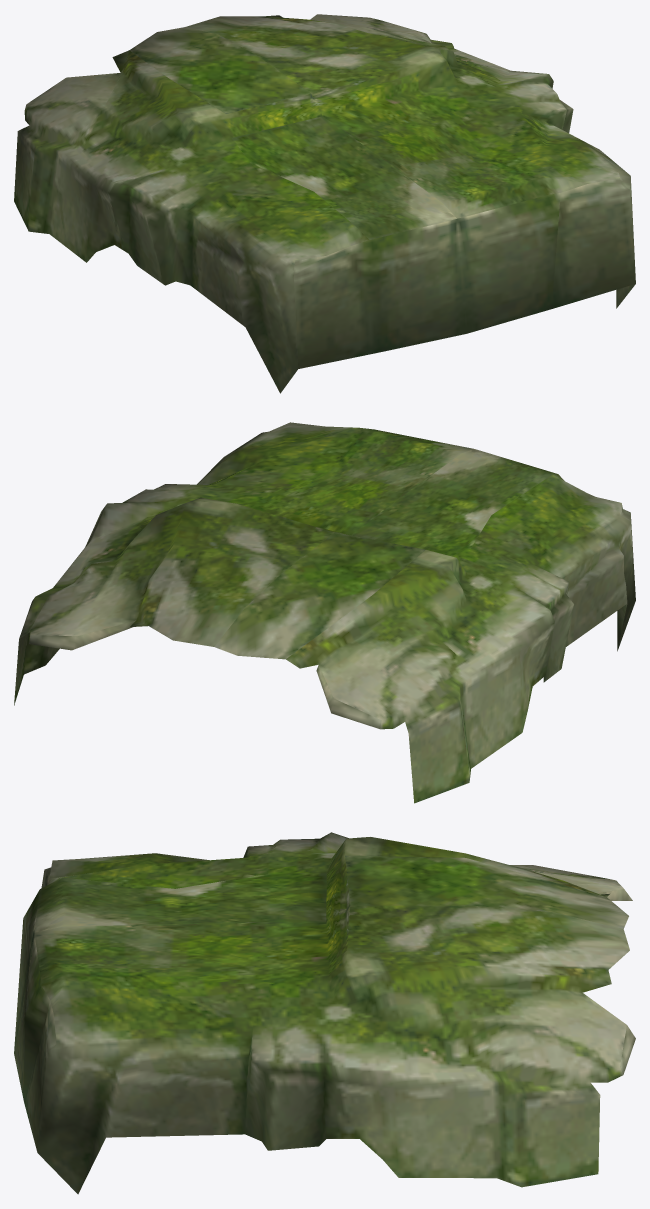
Rendered from S_Rock_Green056_1060_6.fbx.
3 renders of one model, top to bottom at view 1: azimuth 30°, elevation 25°; view 2: azimuth 150°, elevation 25°; view 3: azimuth 270°, elevation 25°, orthographic. The views are drawn at different scales.
Parts seen in each view (by area): view 1: S_Rock_Green056_1060_6; view 2: S_Rock_Green056_1060_6; view 3: S_Rock_Green056_1060_6.
Boxes of the visible parts, x1,y1,x2,y2 form: S_Rock_Green056_1060_6: (14,14,635,393); S_Rock_Green056_1060_6: (14,422,635,803); S_Rock_Green056_1060_6: (14,832,635,1194).
Bounding box in the file's own units: 1249 × 468 × 1354.
